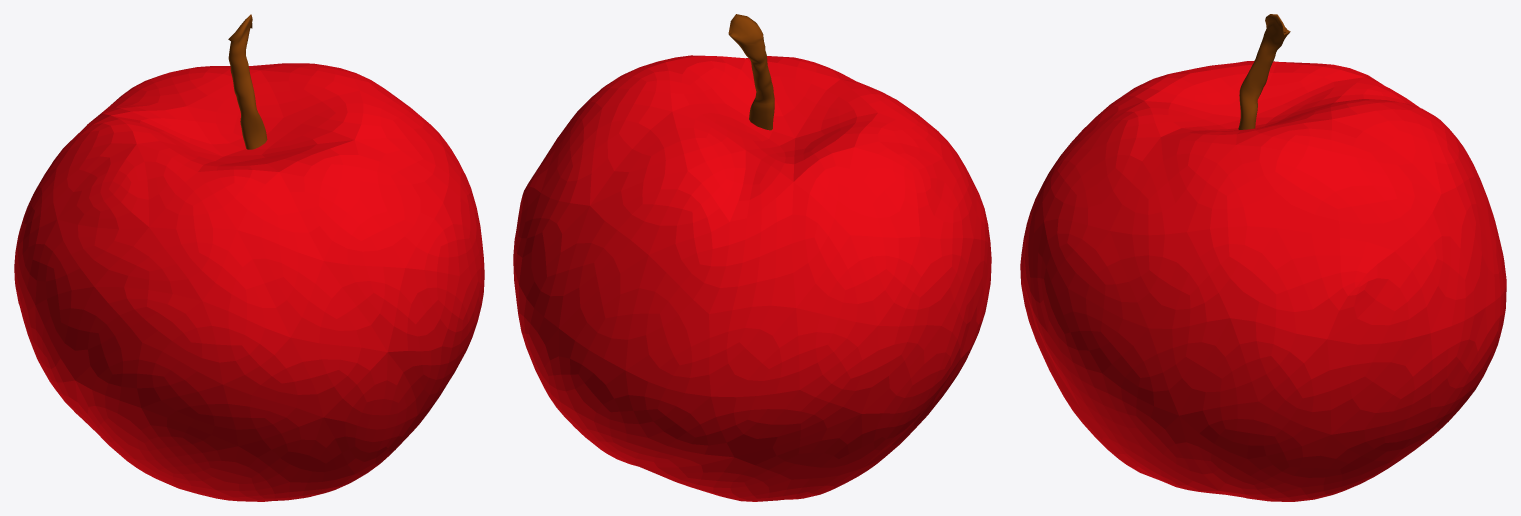
The model's file is appleblend 1.fbx.
The picture shows the model from 3 angles, left to right: view 1: azimuth 30°, elevation 25°; view 2: azimuth 150°, elevation 25°; view 3: azimuth 270°, elevation 25°; orthographic projection. The views are drawn at different scales.
Visible parts, largest first — view 1: apple_basic, limb; view 2: apple_basic, limb; view 3: apple_basic, limb.
Part boxes in pixels (x1=…): apple_basic: x1=14, y1=63, x2=484, y2=501; limb: x1=228, y1=14, x2=267, y2=149; apple_basic: x1=513, y1=55, x2=991, y2=501; limb: x1=728, y1=14, x2=774, y2=130; apple_basic: x1=1020, y1=60, x2=1506, y2=501; limb: x1=1238, y1=14, x2=1290, y2=129.
Size of the model in its own units: 165 by 172 by 166.
